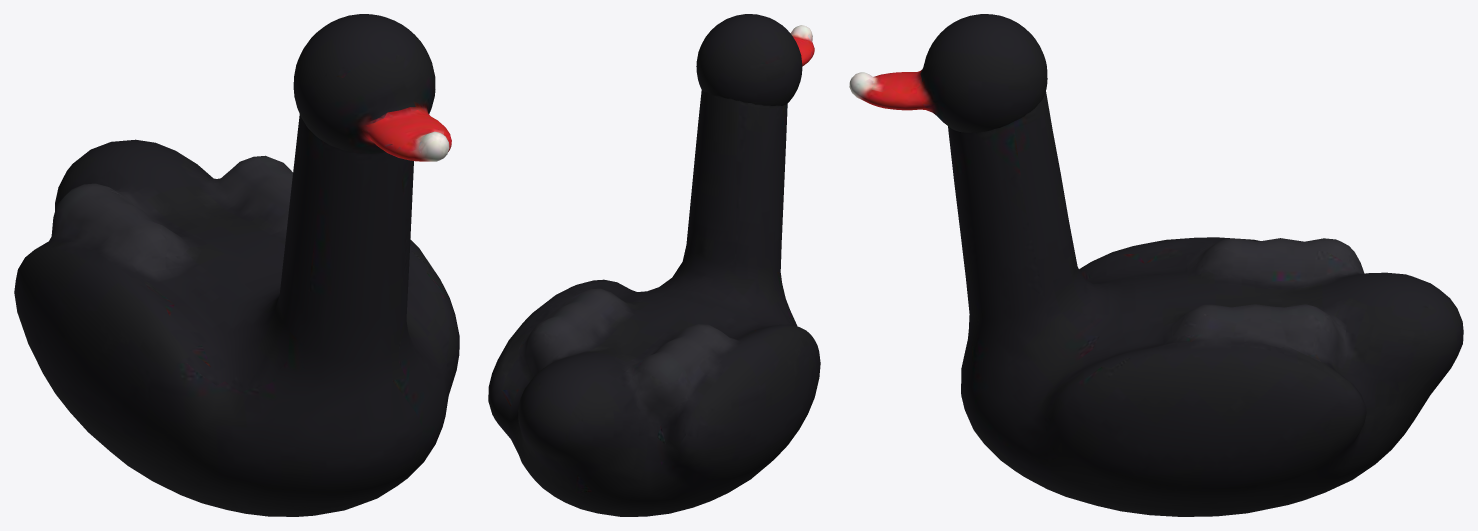
File: animal_black_swan.glb
The picture shows the model from 3 angles, left to right: view 1: azimuth 30°, elevation 25°; view 2: azimuth 150°, elevation 25°; view 3: azimuth 270°, elevation 25°; orthographic projection. The views are drawn at different scales.
Visible parts, largest first — view 1: animal_black_swan, head; view 2: animal_black_swan, head; view 3: animal_black_swan, head.
Part boxes in pixels (box(x1,y1,x2,y2)): animal_black_swan: box(14, 114, 459, 516); head: box(293, 14, 451, 161); animal_black_swan: box(488, 90, 820, 516); head: box(696, 14, 814, 105); animal_black_swan: box(948, 91, 1463, 516); head: box(849, 14, 1047, 132).
Size of the model in its own units: 0.1733 by 0.2697 by 0.3143.
Materials: 1 (1 with a texture image).
